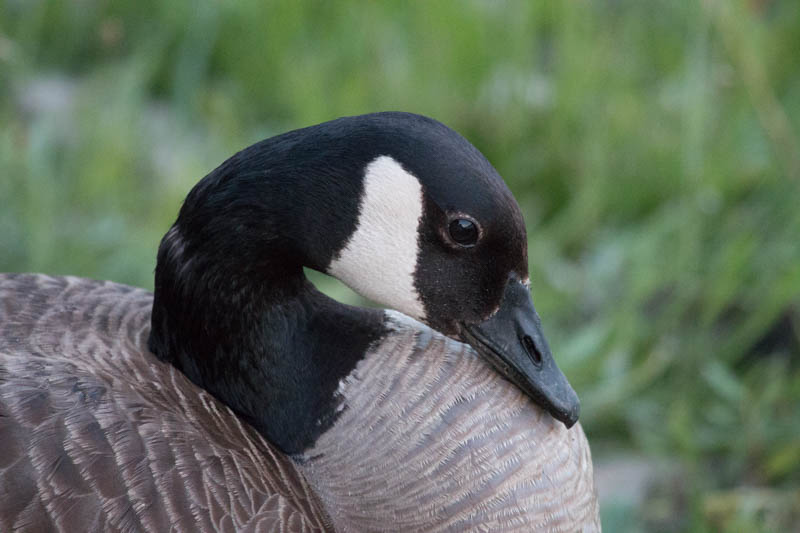goose-head: (290, 109, 582, 429)
